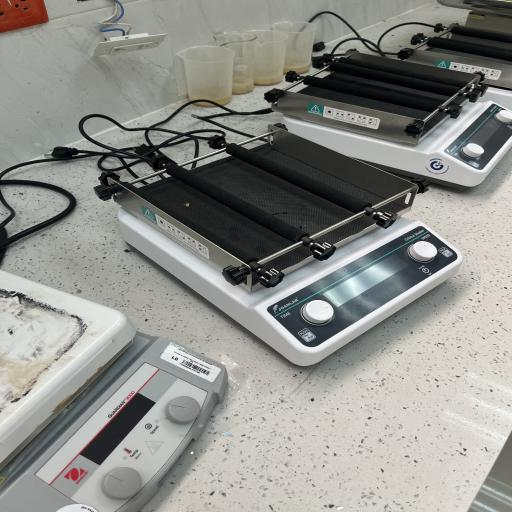Agitador_Orbital_DLAB: (82, 114, 483, 378)
